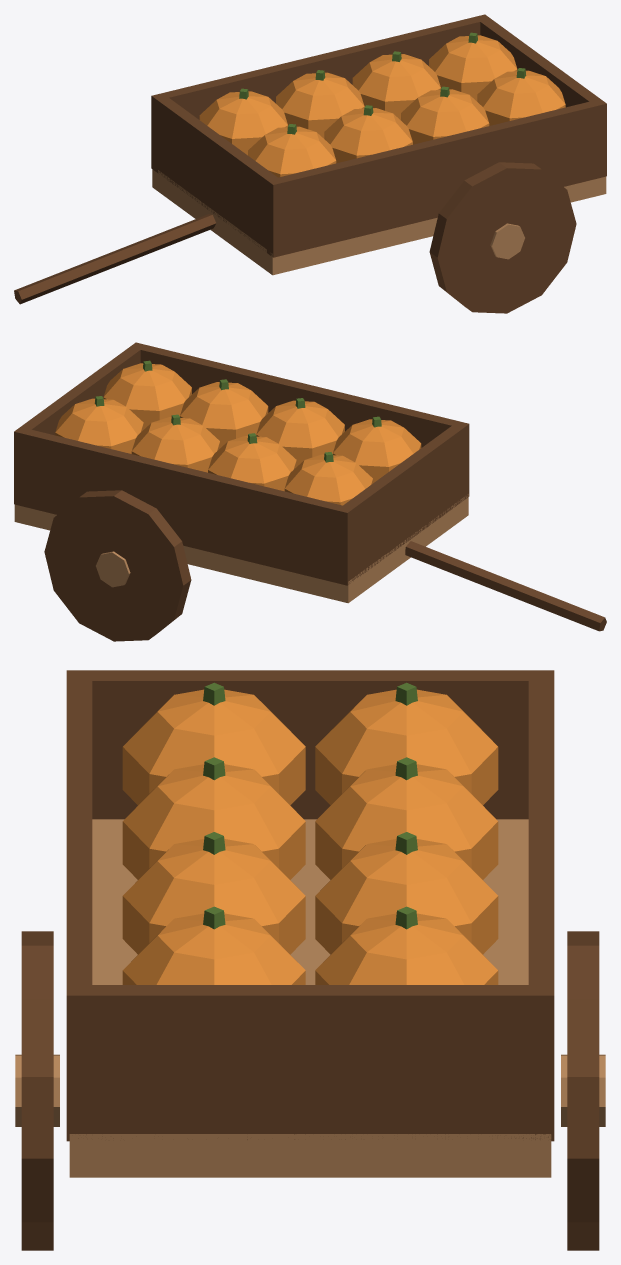
Rendered from pumpkin-cart.glb.
3 renders of one model, top to bottom at view 1: azimuth 30°, elevation 25°; view 2: azimuth 150°, elevation 25°; view 3: azimuth 270°, elevation 25°, orthographic. The views are drawn at different scales.
Parts seen in each view (by area): view 1: cart; view 2: cart; view 3: cart.
Boxes of the visible parts, x1=… form: cart: x1=14, y1=14, x2=606, y2=313; cart: x1=14, y1=342, x2=606, y2=641; cart: x1=15, y1=670, x2=605, y2=1250.
Bounding box in the file's own units: 3.81 × 1.33 × 1.84.
